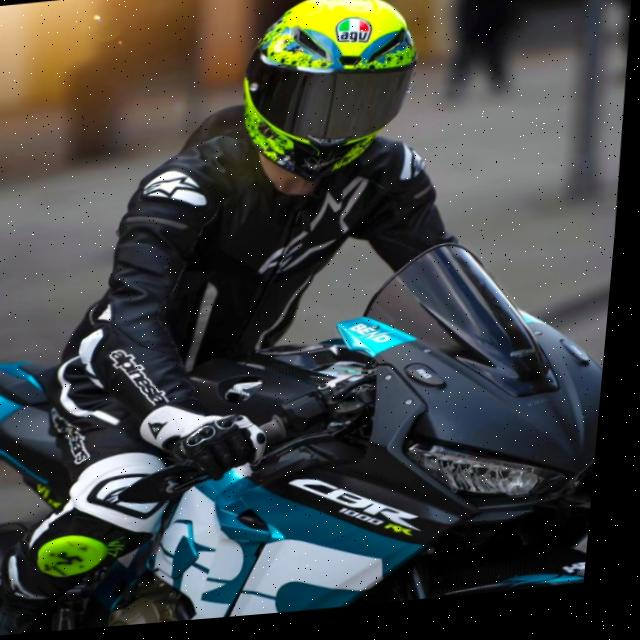helmet: (223, 0, 433, 201)
